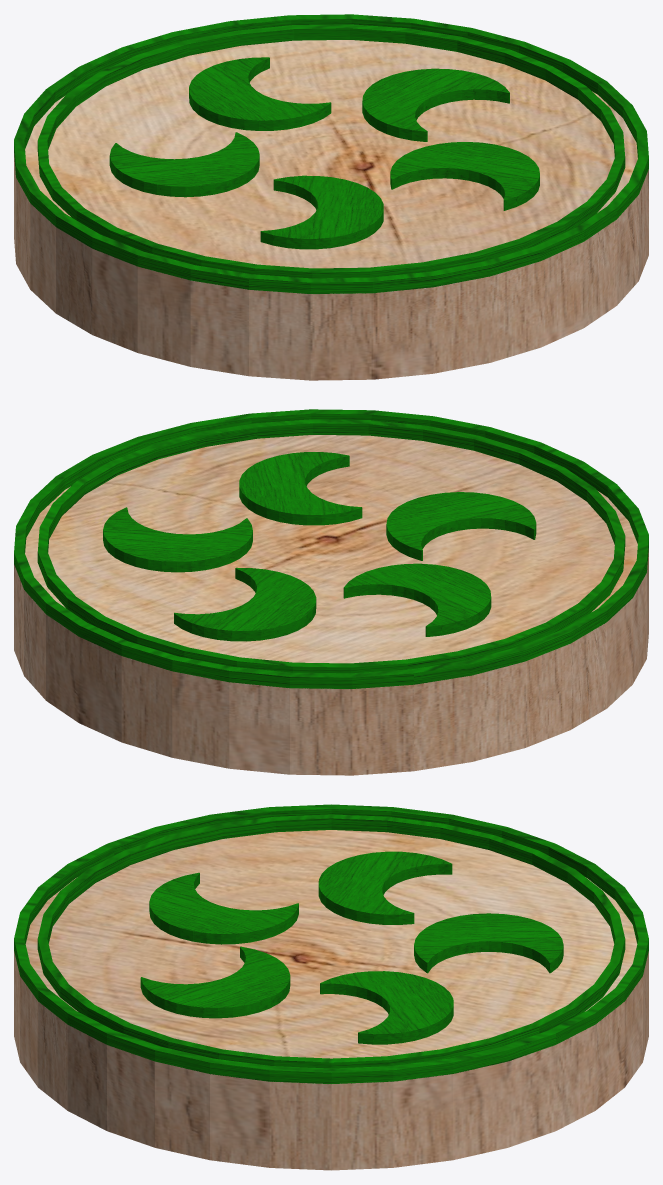
File: Mondstein5.fbx
3 renders of one model, top to bottom at view 1: azimuth 30°, elevation 25°; view 2: azimuth 150°, elevation 25°; view 3: azimuth 270°, elevation 25°, orthographic.
Visible parts, largest first — view 1: Mond5; view 2: Mond5; view 3: Mond5.
Part boxes in pixels (x1,y1,x2,y2): Mond5: (14,14,648,380); Mond5: (14,409,648,775); Mond5: (14,804,648,1170).
Bounding box in the file's own units: 200 × 34 × 200.
